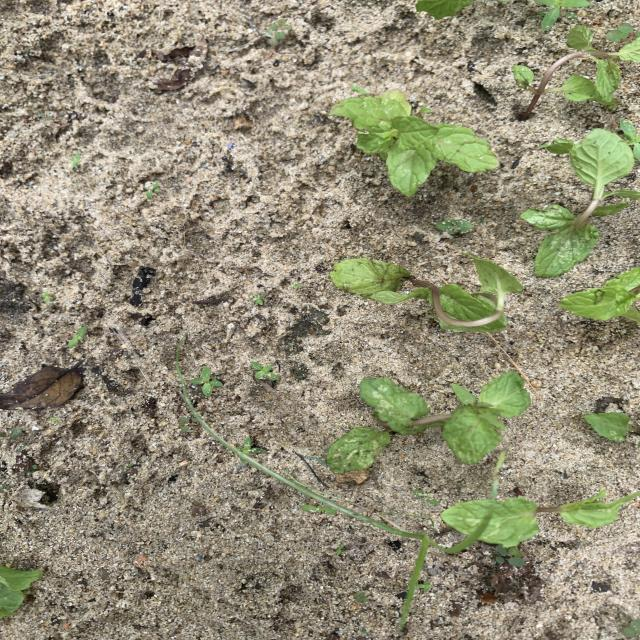crop: (327, 374, 530, 470), (330, 91, 495, 194), (522, 129, 639, 274), (332, 255, 523, 331), (514, 28, 638, 117), (448, 490, 636, 546), (559, 268, 639, 322), (1, 566, 42, 616), (416, 1, 471, 18)
weed: (176, 362, 475, 630), (535, 0, 590, 29), (191, 367, 222, 395), (621, 121, 639, 158), (495, 545, 524, 566), (265, 20, 291, 43), (435, 220, 473, 234), (251, 361, 279, 380), (68, 326, 87, 347), (622, 619, 639, 638), (0, 427, 23, 439), (145, 182, 160, 197), (351, 84, 367, 94), (180, 416, 189, 430), (250, 295, 263, 304), (72, 152, 79, 168), (42, 293, 53, 302), (48, 418, 59, 423), (293, 283, 301, 288)
